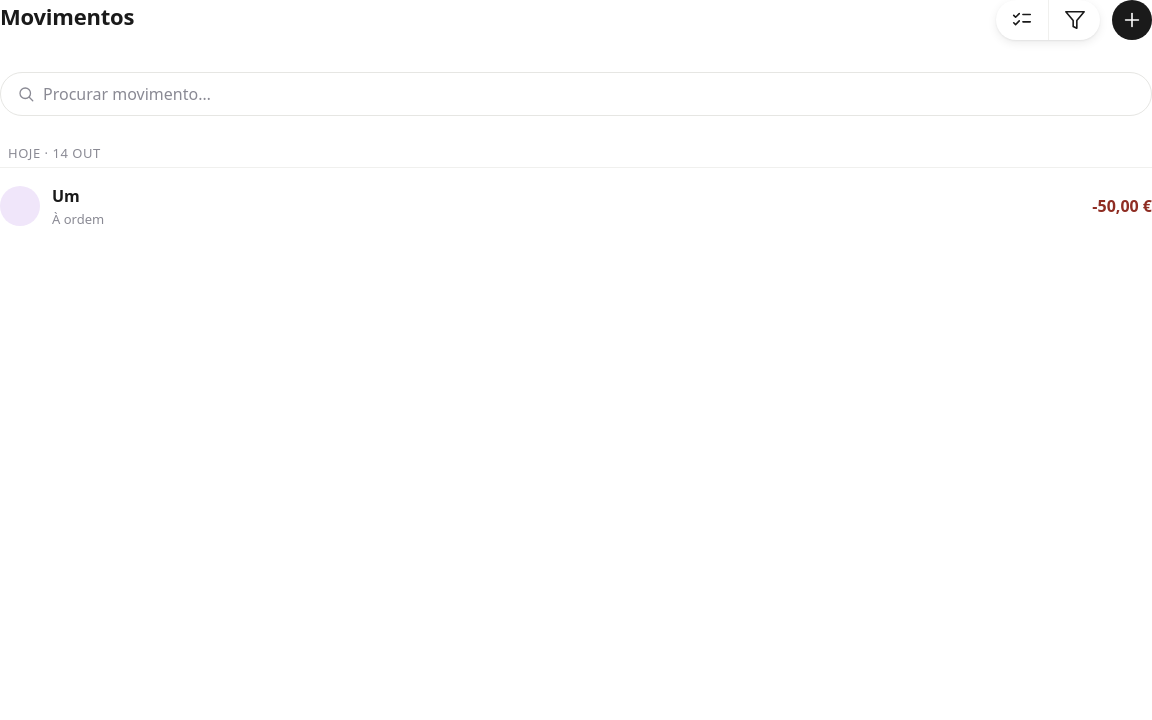
Test: Página Movimentos › marcar todas as contas uma a uma colapsa de volta para "Todas"
Click the button named "Filtros".
click(1074, 20)  # box [1048,0,1100,40]
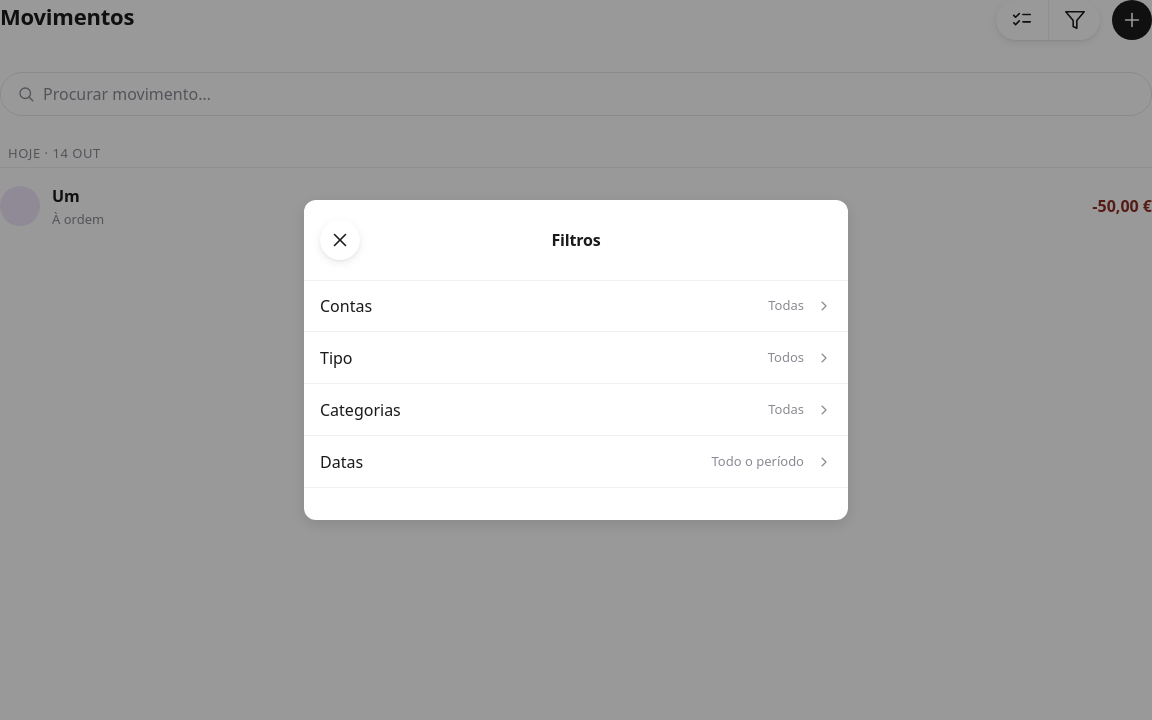
Click the button with aria-label "Contas:".
click(346, 306)  # box [304,280,848,332]
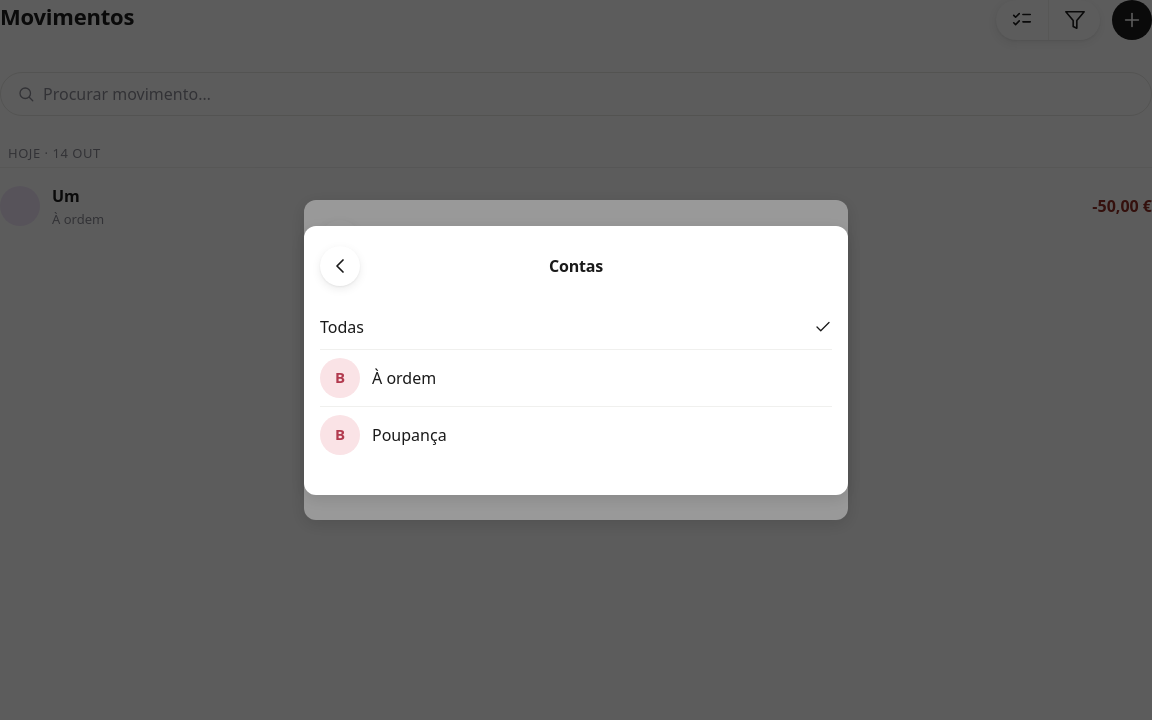
Click the button "B À ordem".
click(340, 378)  # box [320,350,832,406]
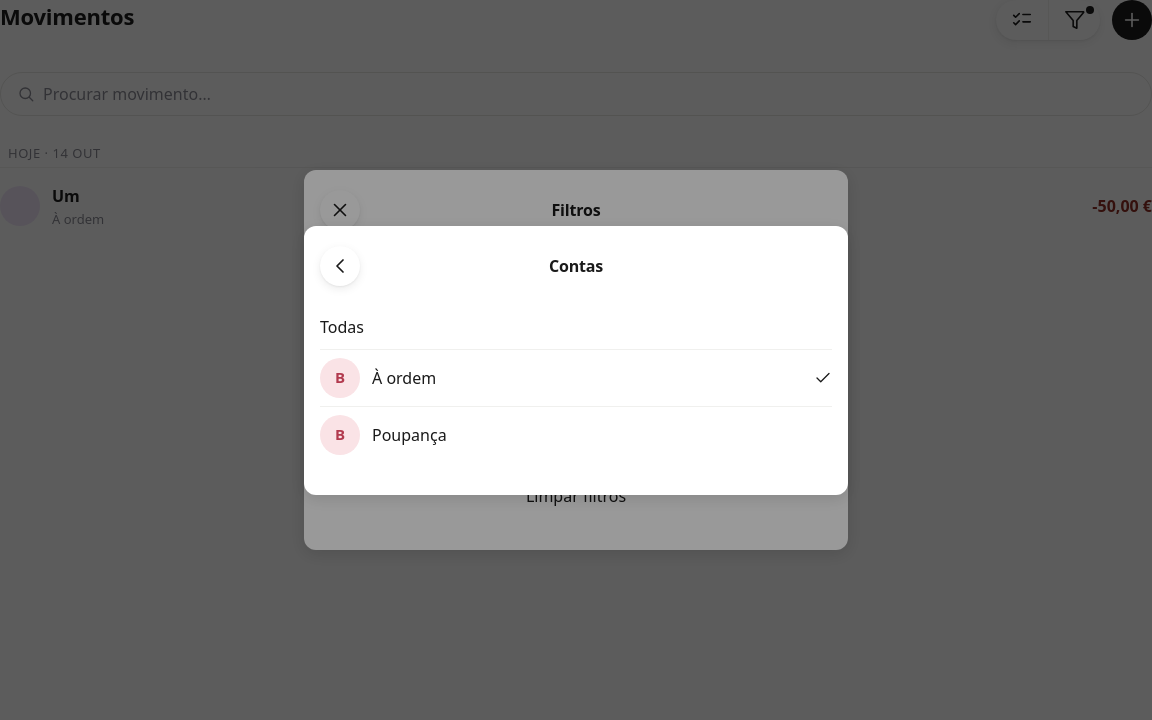
Click the button "B Poupança".
click(340, 434)  # box [320,406,832,462]
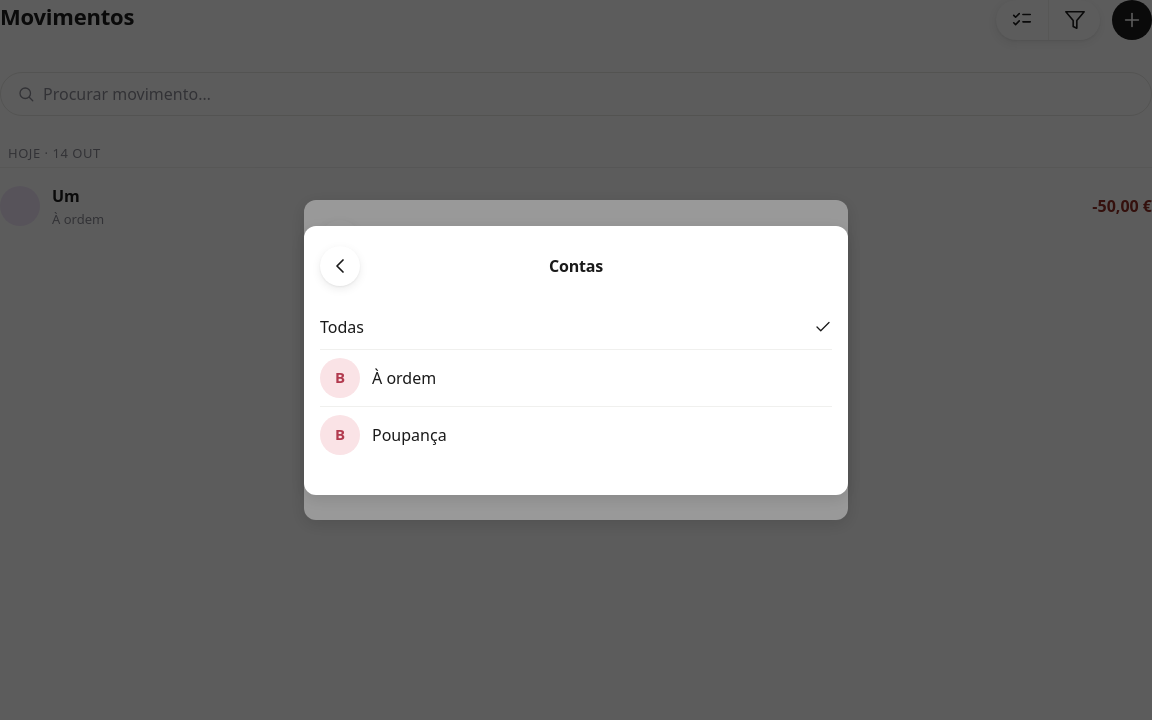
expect the button "Todas" is pressed: met, box [320,306,832,350]
expect the button "B À ordem" is not pressed: met, box [320,350,832,406]
Click the button named "Voltar".
click(340, 266)  # box [320,246,360,286]
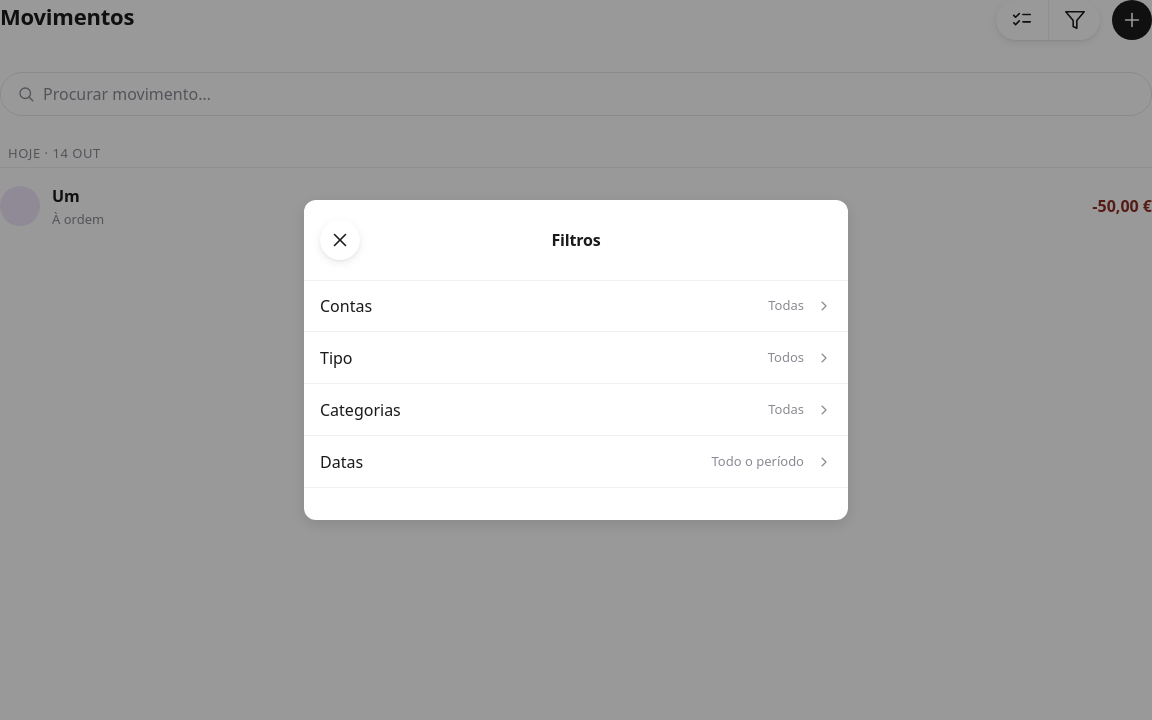
Click the button named "Fechar".
click(340, 240)  # box [320,220,360,260]
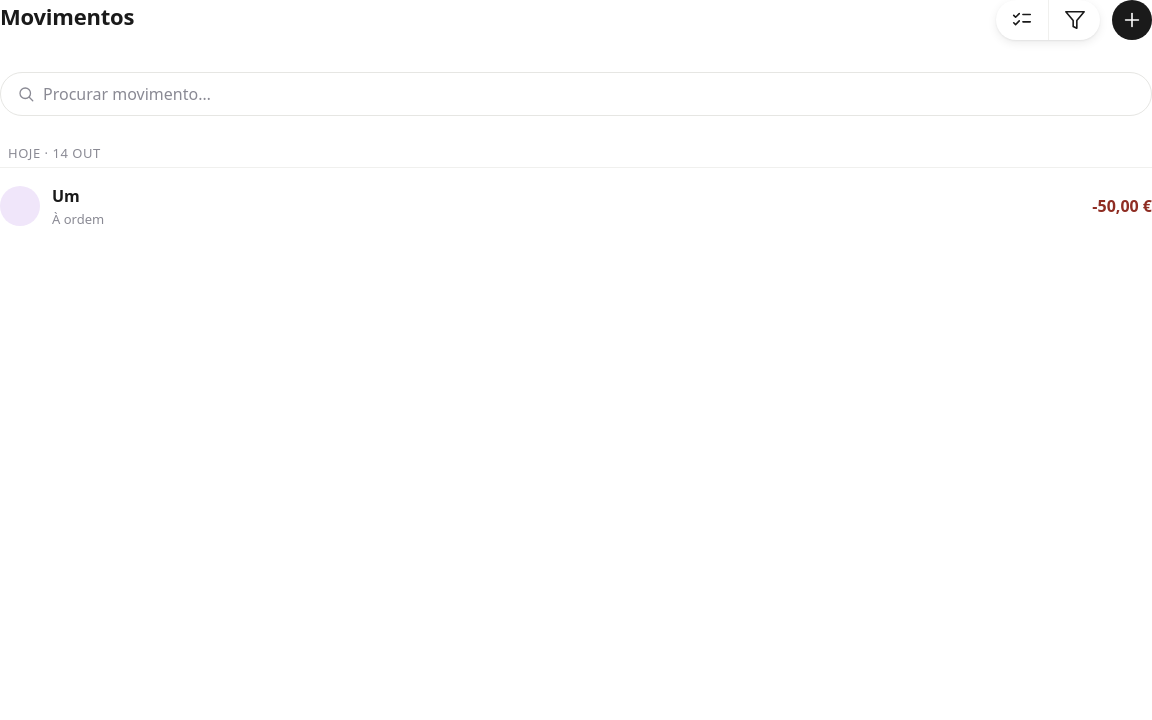
expect the button named "Filtros" is shown: met, box [1048,0,1100,40]
expect the text "Filtros" is gone: met
